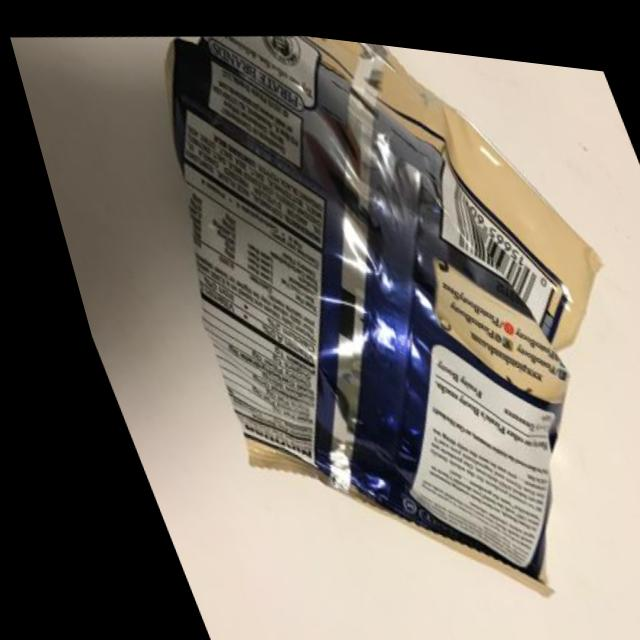trash: (41, 4, 640, 640)
